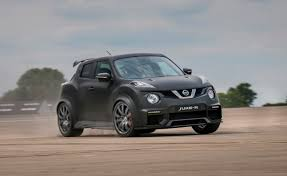Nissan: (58, 58, 222, 134)
